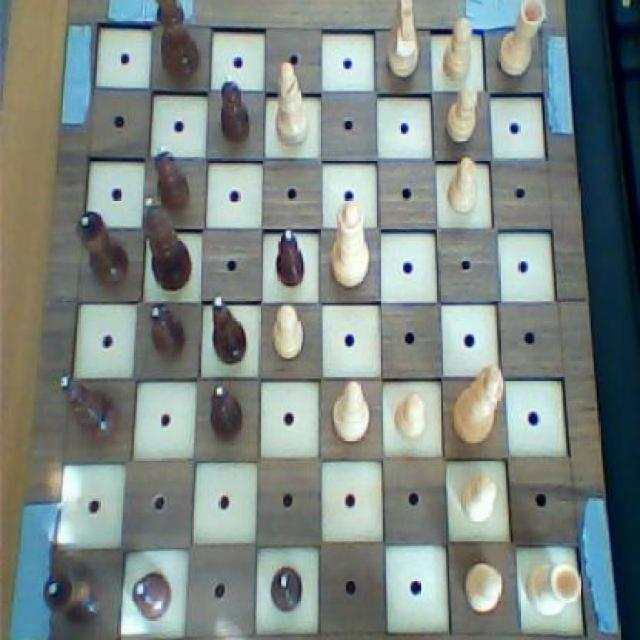bishop: (56, 369, 122, 448), (208, 291, 250, 367)
black-bishop: (149, 0, 205, 86)
black-knight: (143, 295, 191, 364), (214, 69, 255, 148), (151, 140, 192, 209), (130, 563, 176, 622), (272, 222, 310, 293), (207, 378, 246, 444), (266, 560, 308, 619)
black-pawn: (139, 192, 196, 294)
black-queen: (71, 206, 132, 295), (38, 562, 112, 632)
black-rook: (269, 55, 314, 157), (326, 377, 375, 442)
white-bishop: (449, 362, 506, 448)
white-king: (383, 0, 425, 86)
white-knight: (458, 552, 507, 621), (443, 150, 485, 222), (265, 297, 309, 365), (439, 79, 483, 146), (391, 384, 434, 448), (457, 468, 501, 530), (439, 9, 476, 81)
white-pawn: (328, 192, 370, 293)
white-queen: (490, 0, 544, 85), (520, 556, 583, 620)
